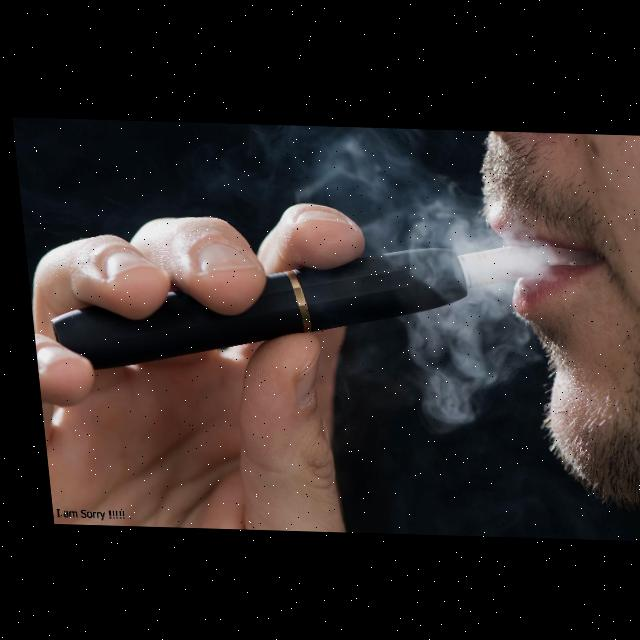vape: (34, 231, 553, 382)
